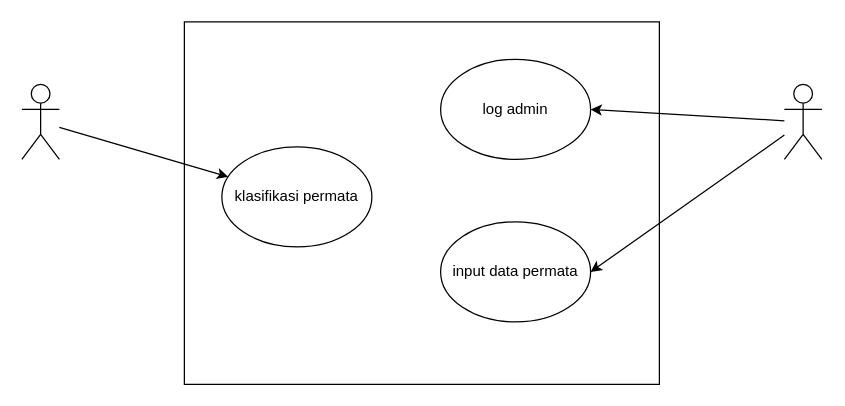
Image size: 845x406. Some labels were removed from this diagram. Here are the shapes that lost their labels. From the top down, the centre of each, then its label:
At [40,121]: "User".
At [802,121]: "admin".
